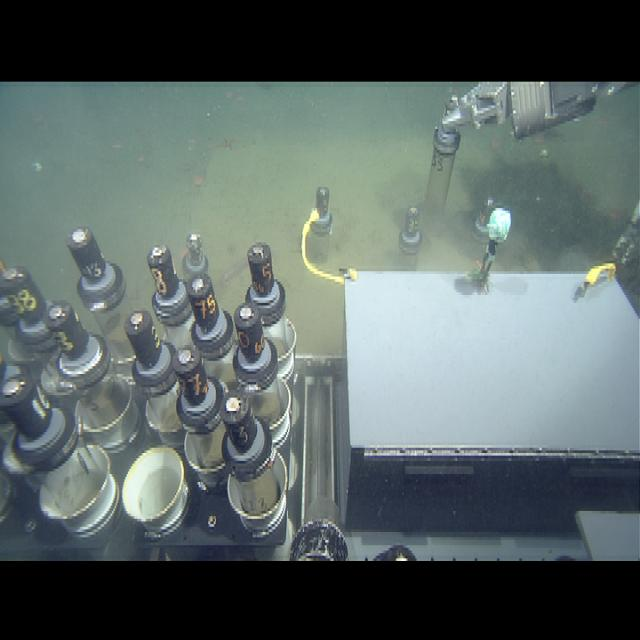Brittle Star: (210, 132, 244, 156)
